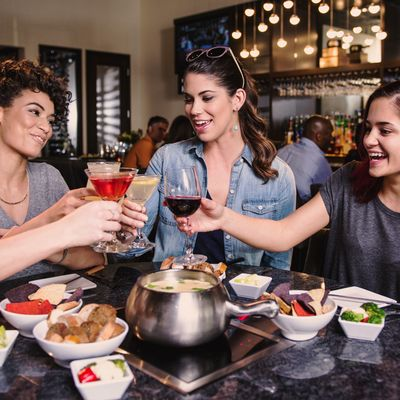sushi: (125, 268, 229, 348), (32, 299, 130, 368), (33, 319, 127, 368), (272, 297, 338, 342), (70, 354, 134, 400), (337, 303, 386, 341), (228, 273, 272, 300)
